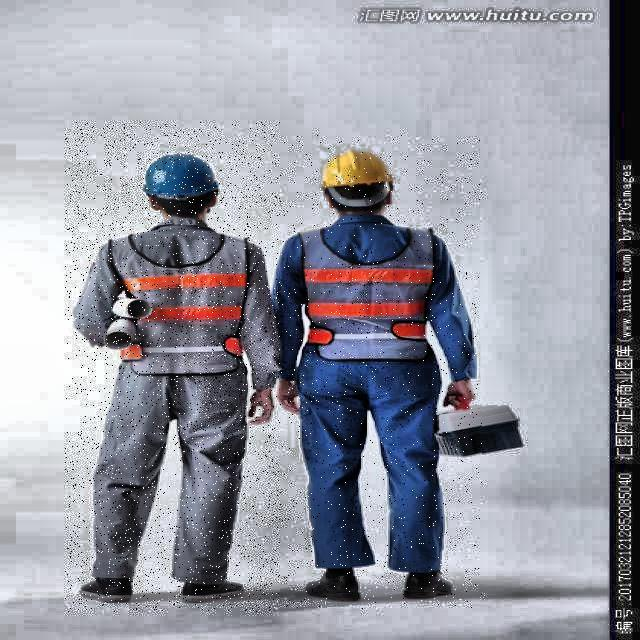safety_helmet: (315, 150, 405, 222), (136, 151, 229, 210)
safety_jacket: (102, 223, 256, 382), (291, 218, 445, 371)
